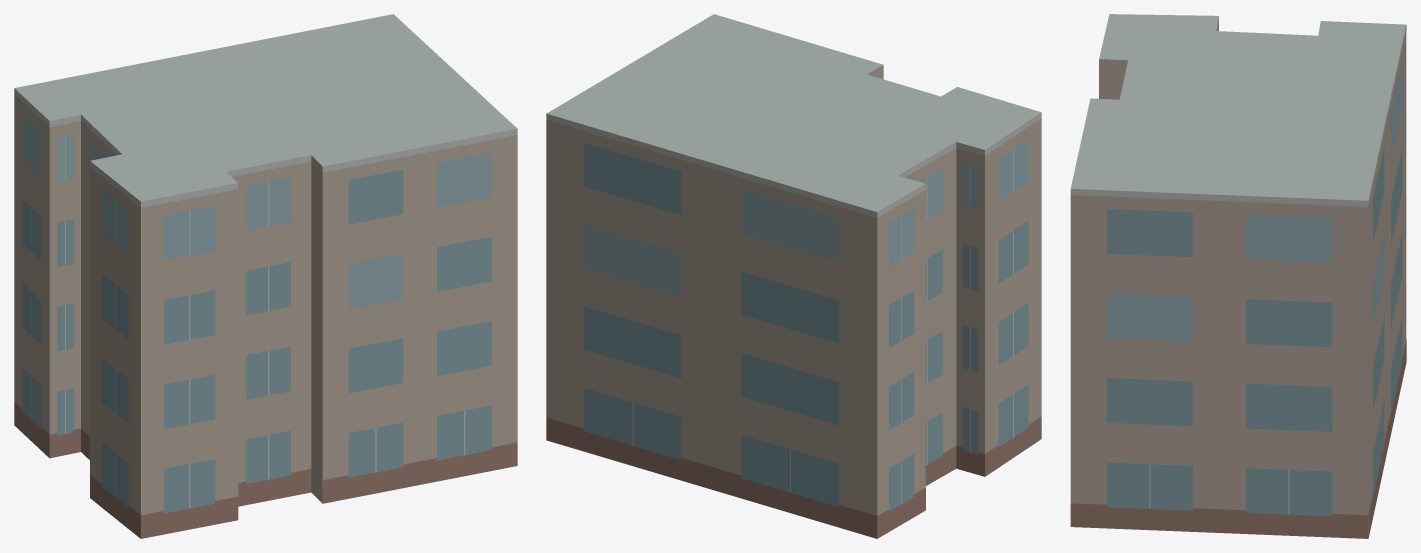
The model's file is survey-upis-33003336.glb.
The picture shows the model from 3 angles, left to right: view 1: azimuth 30°, elevation 25°; view 2: azimuth 150°, elevation 25°; view 3: azimuth 270°, elevation 25°; orthographic projection. The views are drawn at different scales.
Visible parts, largest first — view 1: survey-upis-33003336.tmp; view 2: survey-upis-33003336.tmp; view 3: survey-upis-33003336.tmp.
Boxes of the visible parts, left/top/right/bottom form: survey-upis-33003336.tmp: left=14, top=14, right=517, bottom=538; survey-upis-33003336.tmp: left=546, top=14, right=1041, bottom=538; survey-upis-33003336.tmp: left=1070, top=14, right=1406, bottom=538.
Bounding box in the file's own units: 15.77 × 13.3 × 11.98.
